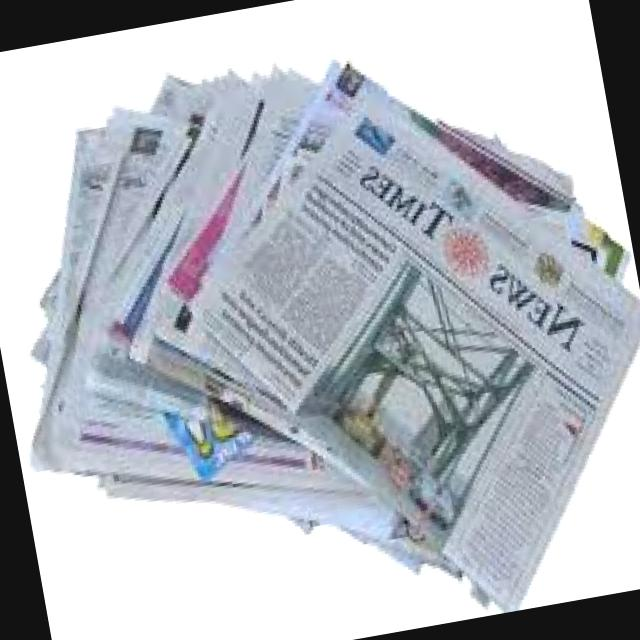paper: (0, 23, 640, 638)
